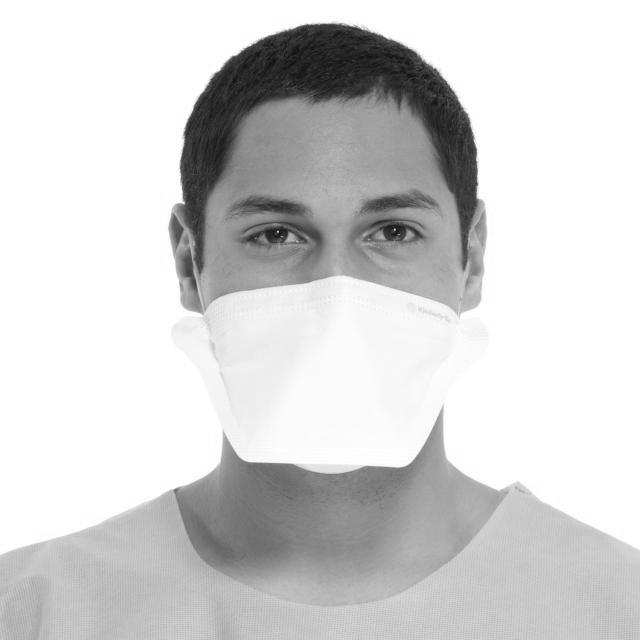fake: (184, 272, 480, 475)
real: (201, 94, 465, 474)
